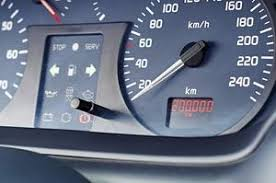Digital_Meter: (165, 91, 219, 119)
